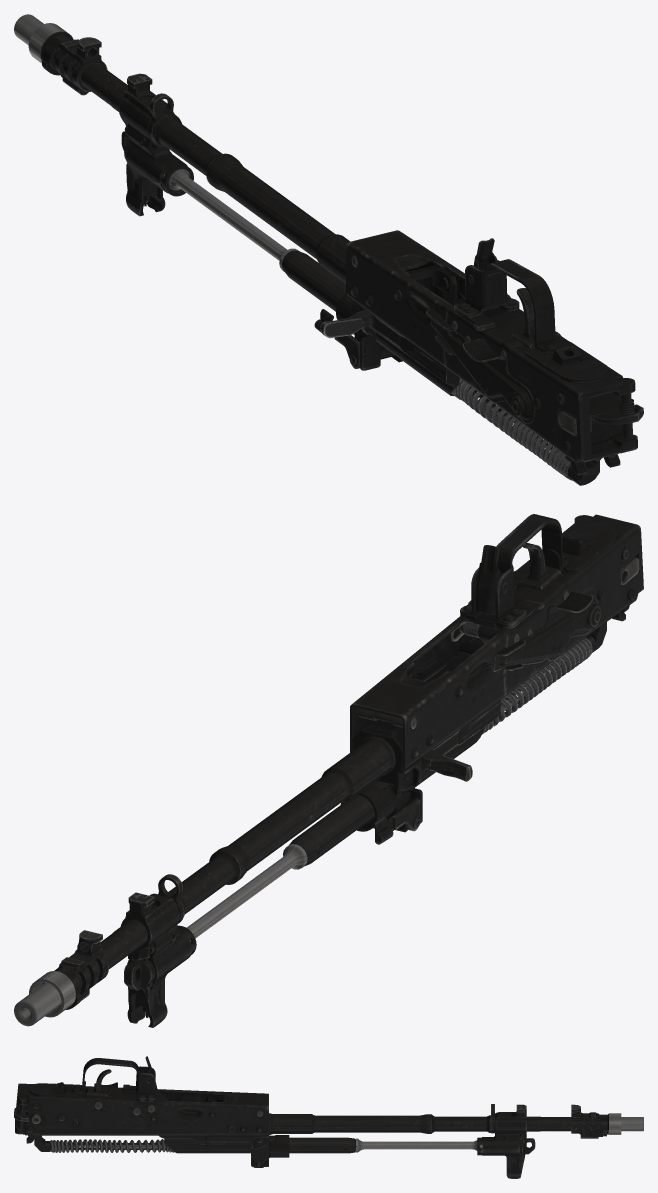
The picture shows the model from 3 angles, top to bottom: view 1: azimuth 30°, elevation 25°; view 2: azimuth 150°, elevation 25°; view 3: azimuth 270°, elevation 25°; orthographic projection. The views are drawn at different scales.
Visible parts, largest first — view 1: TW_6499849fc93611967b034949_PZ_Import; view 2: TW_6499849fc93611967b034949_PZ_Import; view 3: TW_6499849fc93611967b034949_PZ_Import.
Part boxes in pixels (x1,y1,x2,y2): TW_6499849fc93611967b034949_PZ_Import: (14, 14, 643, 485); TW_6499849fc93611967b034949_PZ_Import: (14, 514, 643, 1027); TW_6499849fc93611967b034949_PZ_Import: (14, 1056, 643, 1178).
Size of the model in its own units: 0.0412 by 0.37 by 0.0772.
1 material, 1 textured.
